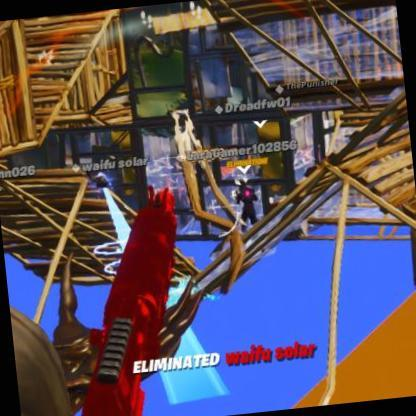Person: (235, 180, 256, 233)
